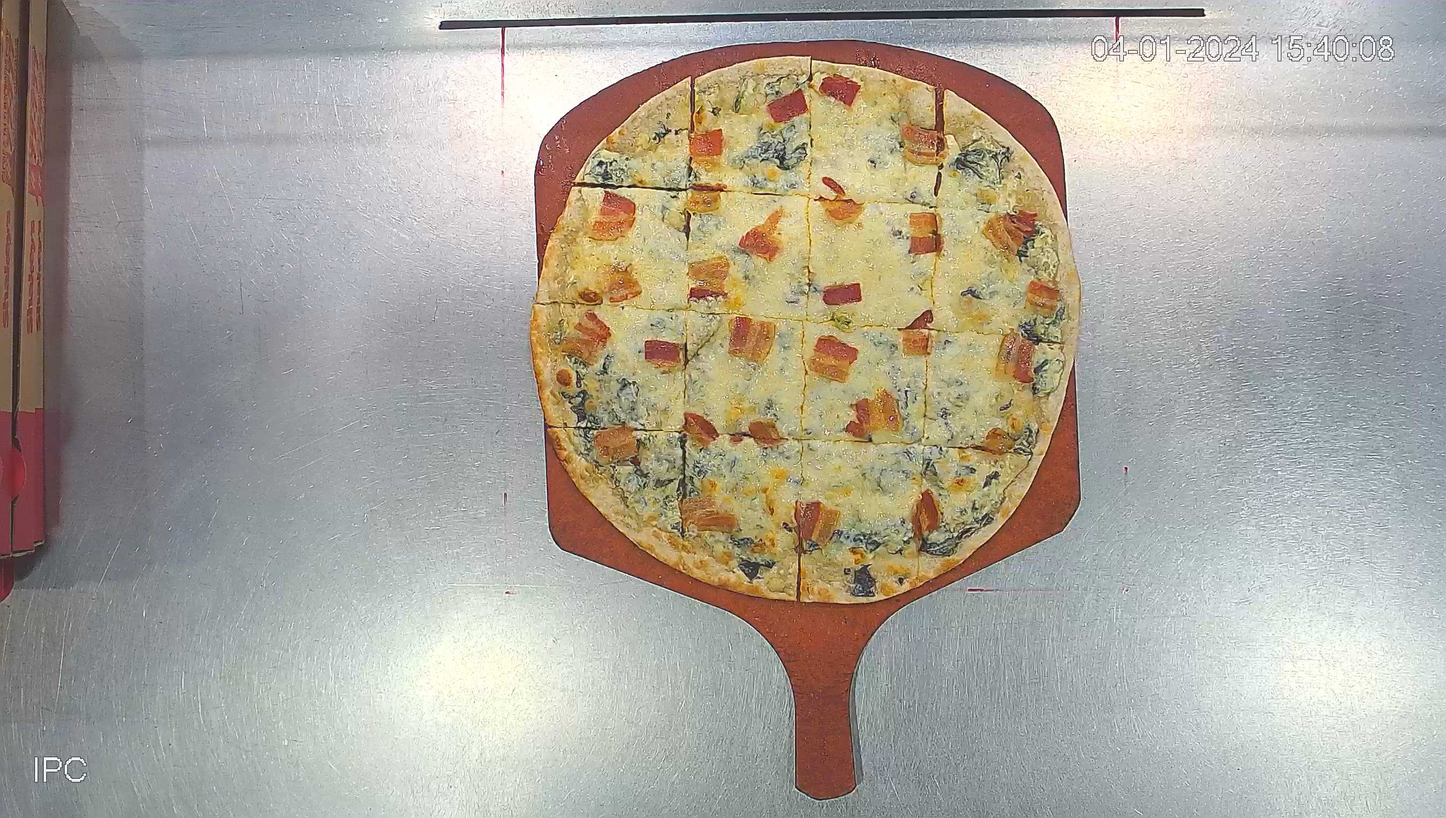pepporoni: (535, 56, 1082, 606)
